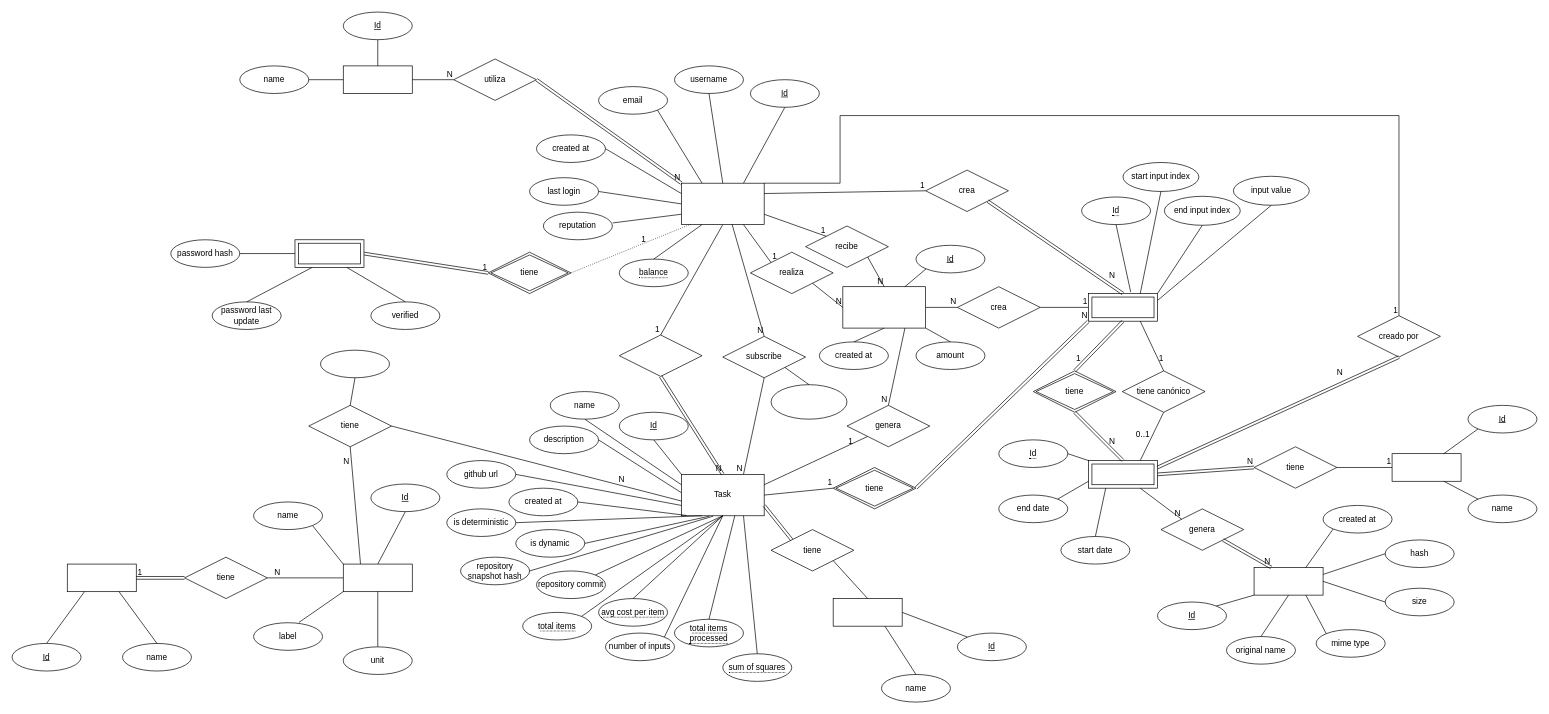
Image size: 1549x714. Some labels were removed from this diagram. The shapes that lost their labels are listed below. From the top down, each one's centre as x and y in pixels, then its label:
At (x=377, y=79): "Auth provider".
At (x=722, y=204): "Account".
At (x=329, y=253): "Auth local credential".
At (x=884, y=307): "Transfer".
At (x=1122, y=307): "Process".
At (x=355, y=363): "min value".
At (x=660, y=355): "publica".
At (x=808, y=401): "chunks since last confirmation".
At (x=1122, y=474): "Execution".
At (x=1426, y=467): "Execution status".
At (x=101, y=577): "Resource".
At (x=377, y=577): "Resource metric".
At (x=1288, y=581): "File".
At (x=867, y=612): "Task status".
